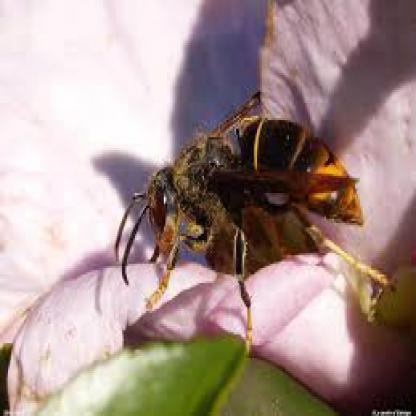asian: (122, 105, 389, 367)
